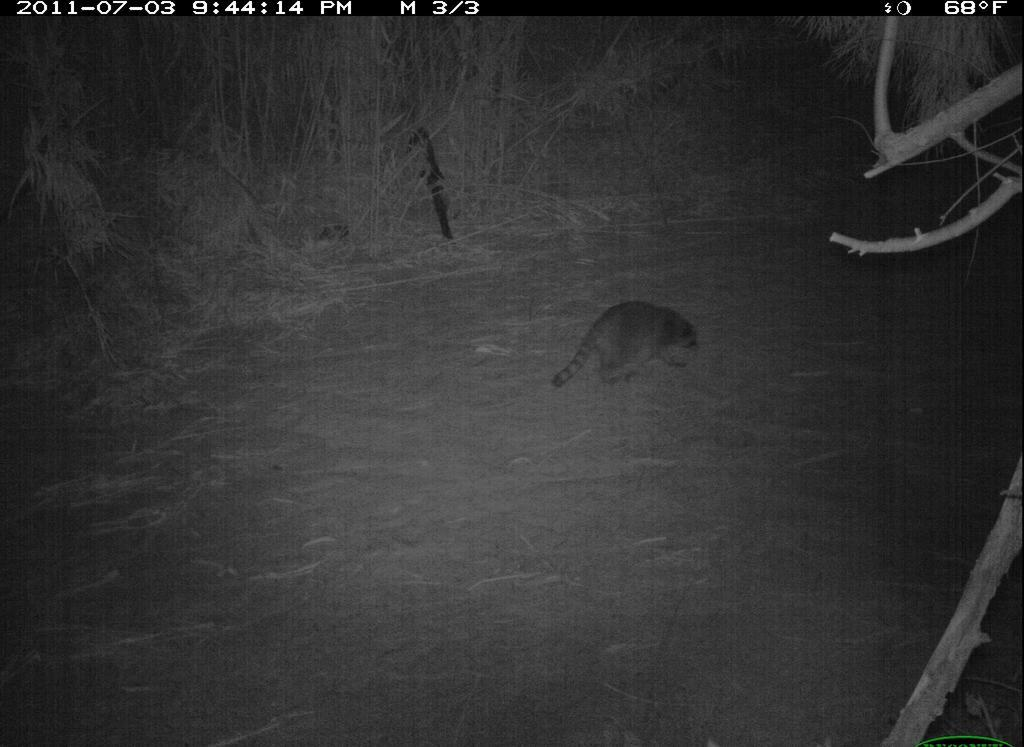raccoon: (551, 285, 712, 415)
